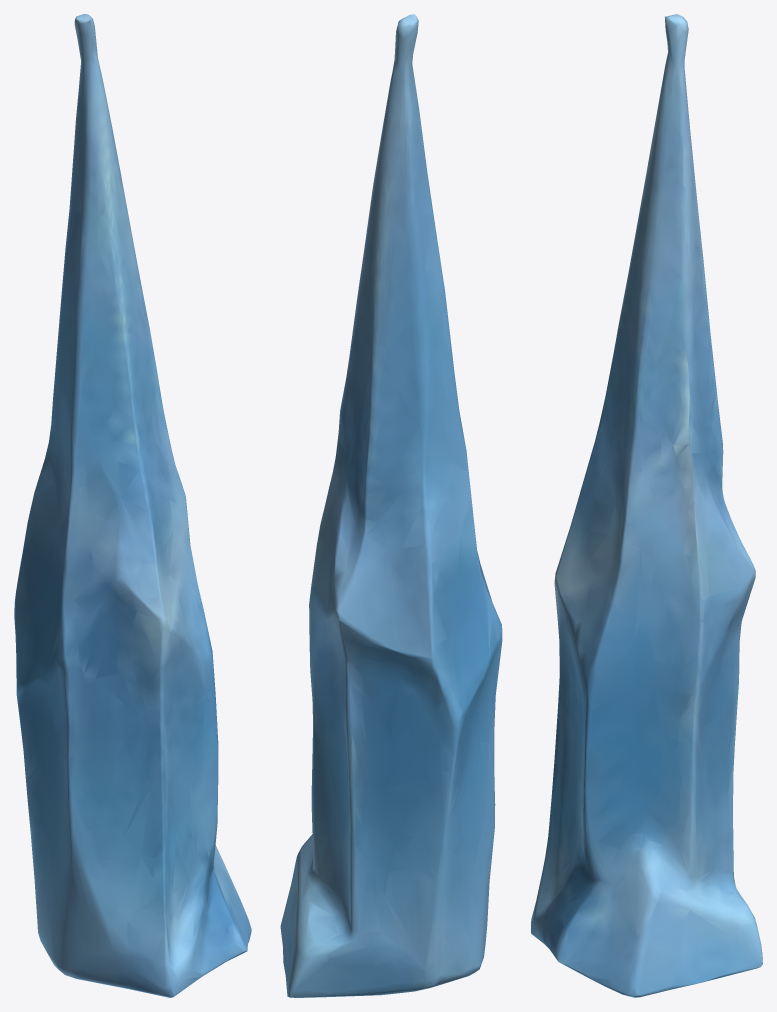
Rendered from pincho_escarcha_0_2500.glb.
The picture shows the model from 3 angles, left to right: view 1: azimuth 30°, elevation 25°; view 2: azimuth 150°, elevation 25°; view 3: azimuth 270°, elevation 25°; orthographic projection. The views are drawn at different scales.
Parts seen in each view (by area): view 1: pincho_escarcha_0_malla; view 2: pincho_escarcha_0_malla; view 3: pincho_escarcha_0_malla.
Boxes of the visible parts, x1,y1,x2,y2 form: pincho_escarcha_0_malla: [14, 14, 251, 997]; pincho_escarcha_0_malla: [280, 14, 502, 997]; pincho_escarcha_0_malla: [531, 14, 762, 997].
Size of the model in its own units: 0.0604 by 0.2667 by 0.0611.
1 material, 1 textured.
